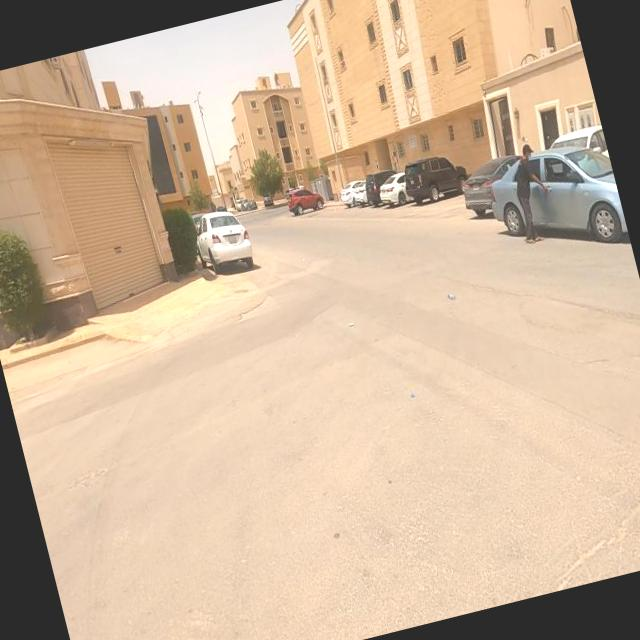debris: (416, 254, 484, 332)
